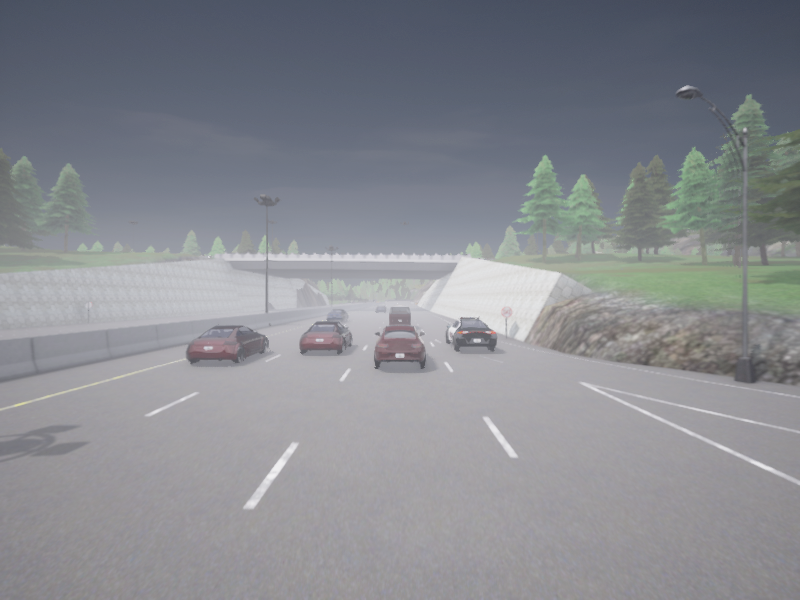vehicle: (186, 325, 268, 362), (374, 325, 425, 366), (445, 317, 496, 350), (300, 321, 352, 352), (389, 305, 410, 324), (327, 309, 348, 321), (376, 305, 386, 312)
